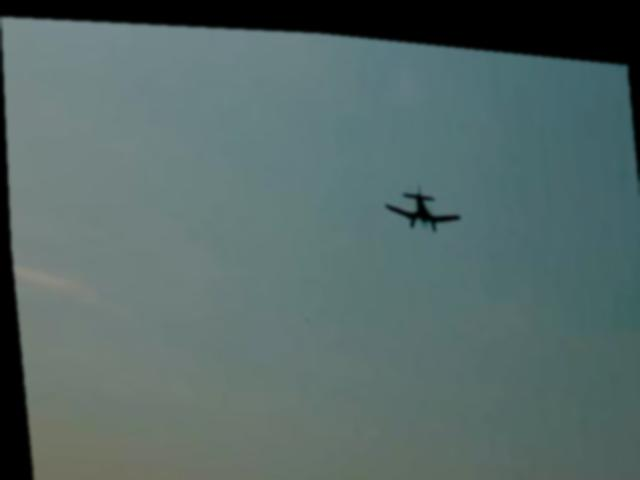uav: (377, 170, 463, 232)
